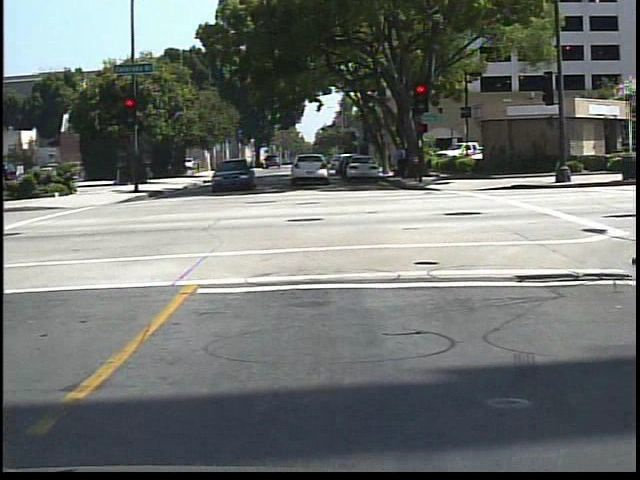person: (392, 140, 411, 183)
